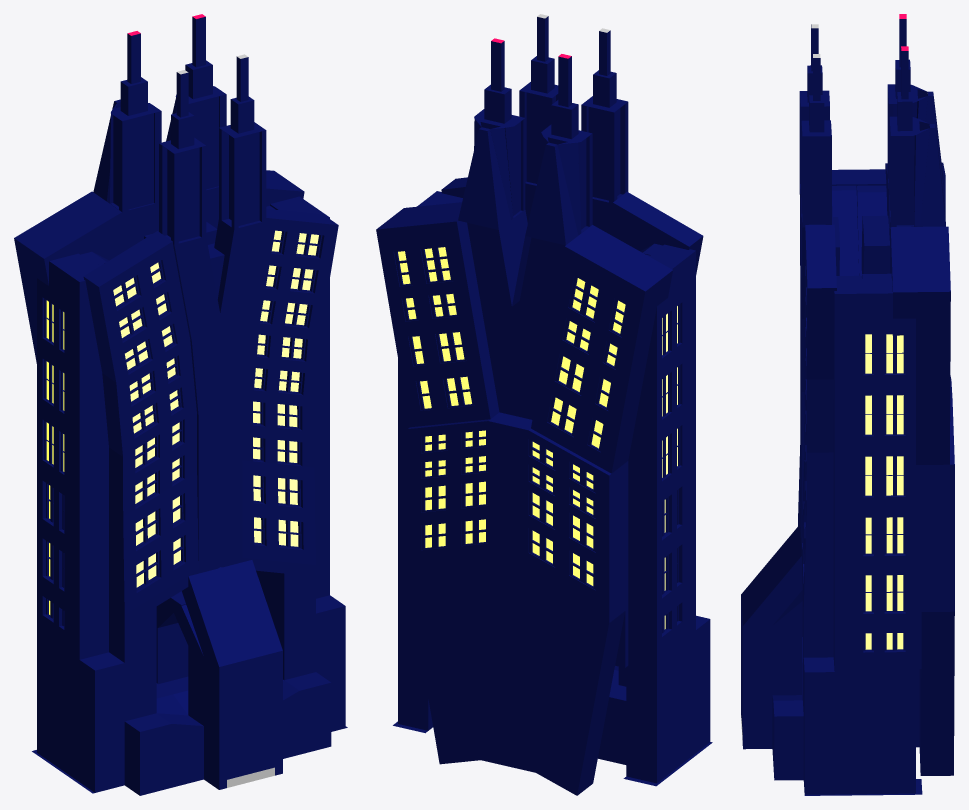
The model's file is future_tower.fbx.
The picture shows the model from 3 angles, left to right: view 1: azimuth 30°, elevation 25°; view 2: azimuth 150°, elevation 25°; view 3: azimuth 270°, elevation 25°; orthographic projection.
Visible parts, largest first — view 1: future_tower; view 2: future_tower; view 3: future_tower.
Boxes of the visible parts, x1,y1,x2,y2 form: future_tower: (14,14,347,795); future_tower: (376,14,712,795); future_tower: (741,14,954,795).
Size of the model in its own units: 904 by 2311 by 630.
